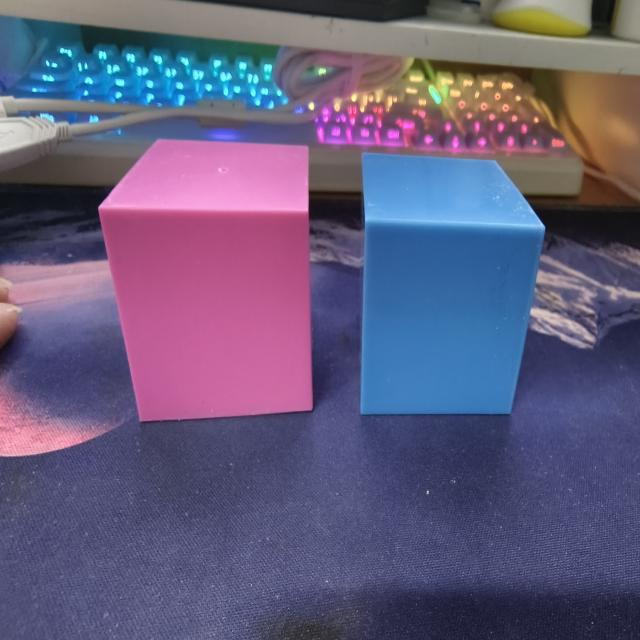blue: (359, 151, 545, 419)
pink: (97, 139, 315, 425)
